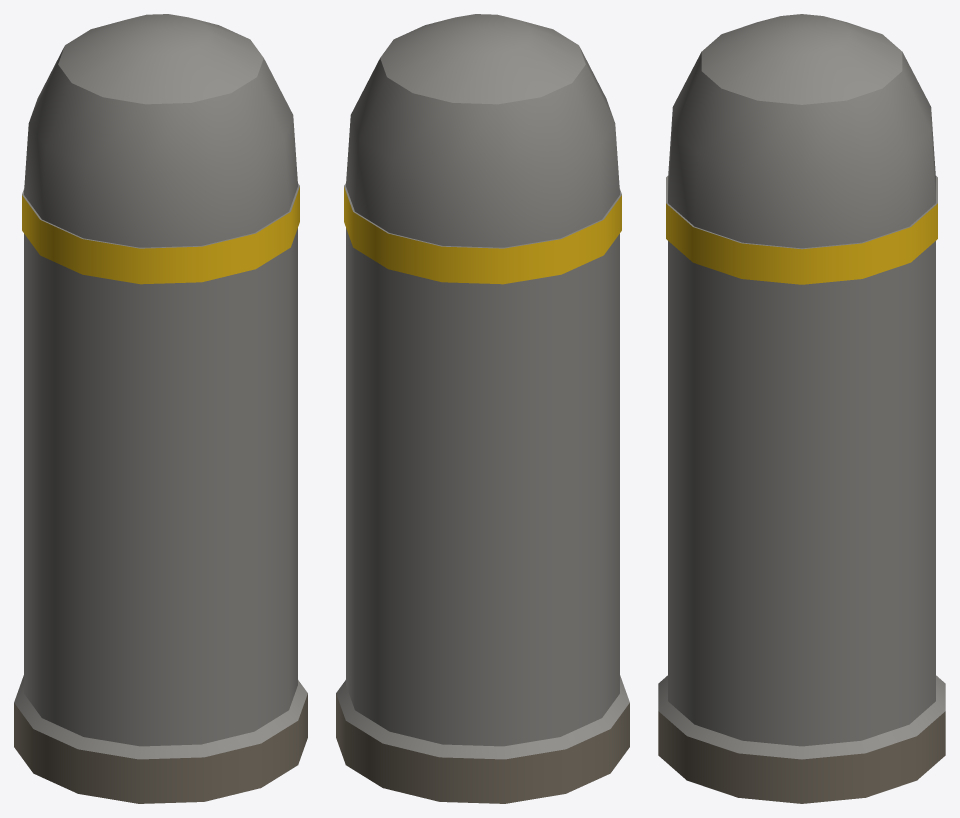
Rendered from SC_Util_Bollard_Stone.gltf.
3 views of the same model, side by side, from view 1: azimuth 30°, elevation 25°; view 2: azimuth 150°, elevation 25°; view 3: azimuth 270°, elevation 25° (orthographic).
Visible parts, largest first — view 1: SC_Util_Bollard_Stone; view 2: SC_Util_Bollard_Stone; view 3: SC_Util_Bollard_Stone.
Boxes of the visible parts, x1,y1,x2,y2 form: SC_Util_Bollard_Stone: (14, 14, 307, 803); SC_Util_Bollard_Stone: (336, 14, 629, 803); SC_Util_Bollard_Stone: (658, 14, 945, 803).
Bounding box in the file's own units: 0.3 × 0.8 × 0.2925.
Materials: 1 (1 with a texture image).
